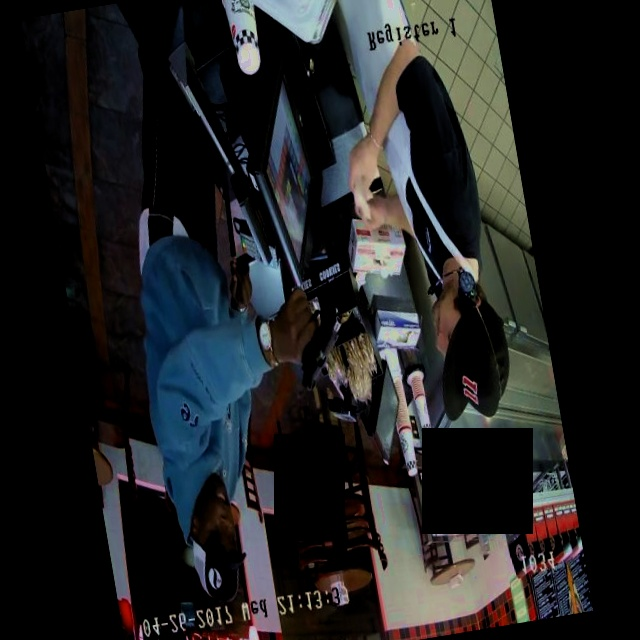gun: (264, 281, 368, 402)
